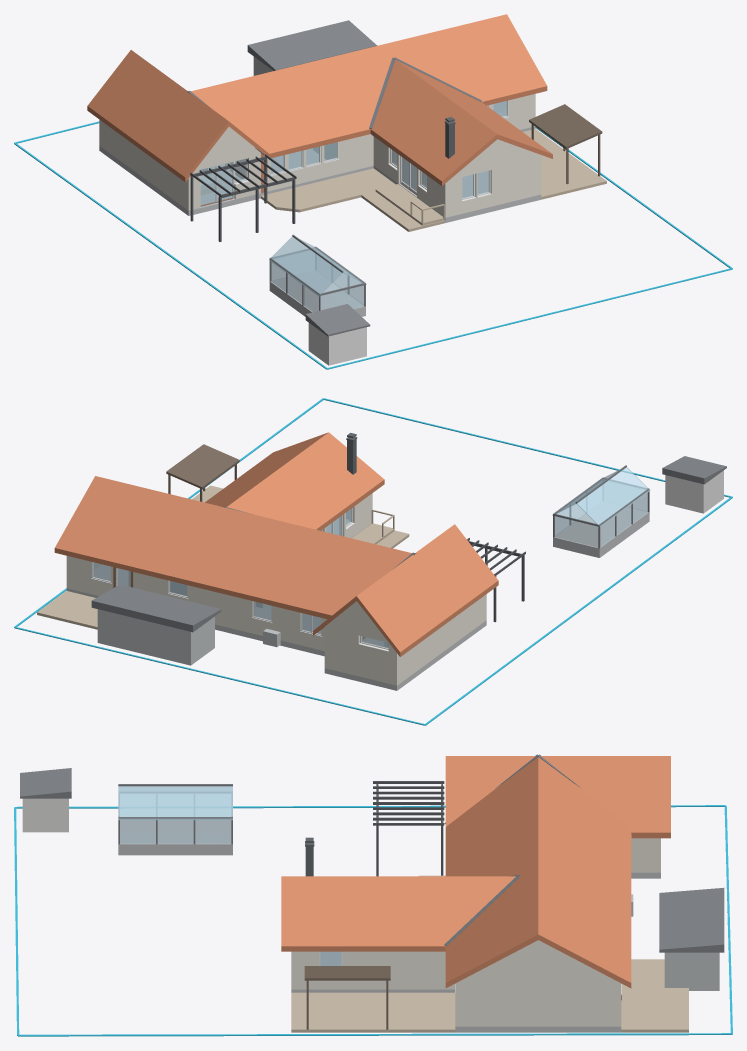
Rendered from Barkgatan3_ext_west_45deg_flush.glb.
3 views of the same model, one above another, from view 1: azimuth 30°, elevation 25°; view 2: azimuth 150°, elevation 25°; view 3: azimuth 270°, elevation 25° (orthographic). The views are drawn at different scales.
Visible parts, largest first — view 1: ROOF, WALLS_EXT, GLASS, DECK_WOOD, SLAB, CONTEXT_DARK, EXT_WALLS, LOT_LINE, PERGOLA, CANOPY, CONTEXT_WALL, WINDOW_FRAME (+1 smaller); view 2: ROOF, GLASS, EXT_WALLS, WALLS_EXT, CONTEXT_DARK, SLAB, CONTEXT_GREY, LOT_LINE, DECK_WOOD, CANOPY, CONTEXT_WALL, WINDOW_FRAME (+1 smaller); view 3: ROOF, WALLS_EXT, DECK_WOOD, CONTEXT_DARK, GLASS, SLAB, LOT_LINE, PERGOLA, CONTEXT_GREY, CONTEXT_WALL, CANOPY, EXT_WALLS (+1 smaller).
Boxes of the visible parts, x1=… form: ROOF: x1=87, y1=14, x2=552, y2=185; WALLS_EXT: x1=267, y1=94, x2=541, y2=217; GLASS: x1=200, y1=101, x2=507, y2=311; DECK_WOOD: x1=261, y1=129, x2=606, y2=231; SLAB: x1=99, y1=110, x2=541, y2=316; CONTEXT_DARK: x1=247, y1=20, x2=377, y2=336; EXT_WALLS: x1=99, y1=119, x2=260, y2=210; LOT_LINE: x1=14, y1=121, x2=732, y2=369; PERGOLA: x1=190, y1=154, x2=296, y2=241; CANOPY: x1=529, y1=104, x2=602, y2=184; CONTEXT_WALL: x1=308, y1=323, x2=366, y2=365; WINDOW_FRAME: x1=212, y1=100, x2=509, y2=201; ROOF: x1=54, y1=432, x2=498, y2=656; GLASS: x1=93, y1=467, x2=650, y2=648; EXT_WALLS: x1=324, y1=594, x2=486, y2=685; WALLS_EXT: x1=66, y1=493, x2=372, y2=650; CONTEXT_DARK: x1=91, y1=456, x2=726, y2=632; SLAB: x1=66, y1=502, x2=649, y2=690; CONTEXT_GREY: x1=97, y1=609, x2=280, y2=665; LOT_LINE: x1=14, y1=398, x2=732, y2=725; DECK_WOOD: x1=37, y1=485, x2=409, y2=629; CANOPY: x1=166, y1=444, x2=239, y2=501; CONTEXT_WALL: x1=665, y1=470, x2=723, y2=513; WINDOW_FRAME: x1=91, y1=508, x2=388, y2=651; ROOF: x1=281, y1=756, x2=670, y2=988; WALLS_EXT: x1=291, y1=940, x2=621, y2=1026; DECK_WOOD: x1=291, y1=875, x2=688, y2=1032; CONTEXT_DARK: x1=20, y1=768, x2=724, y2=952; GLASS: x1=118, y1=786, x2=341, y2=965; SLAB: x1=118, y1=820, x2=660, y2=1032; LOT_LINE: x1=14, y1=805, x2=732, y2=1036; PERGOLA: x1=373, y1=781, x2=444, y2=876; CONTEXT_GREY: x1=631, y1=894, x2=719, y2=990; CONTEXT_WALL: x1=22, y1=798, x2=68, y2=832; CANOPY: x1=304, y1=966, x2=390, y2=1029; EXT_WALLS: x1=631, y1=835, x2=660, y2=872.
Size of the model in its own units: 24.79 by 5.49 by 32.64.
